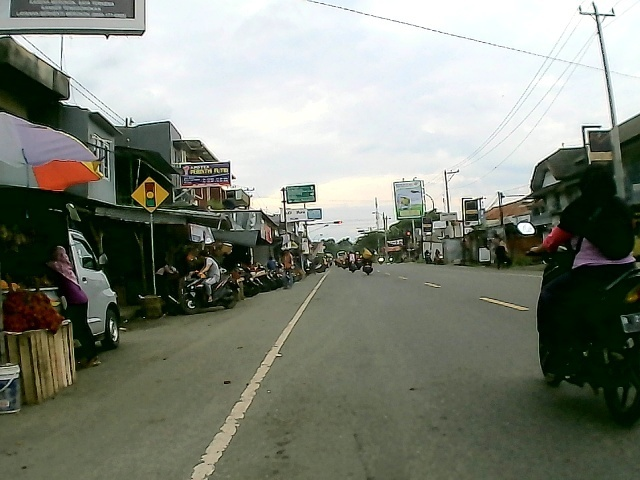Hati-hati: (129, 176, 172, 214)
